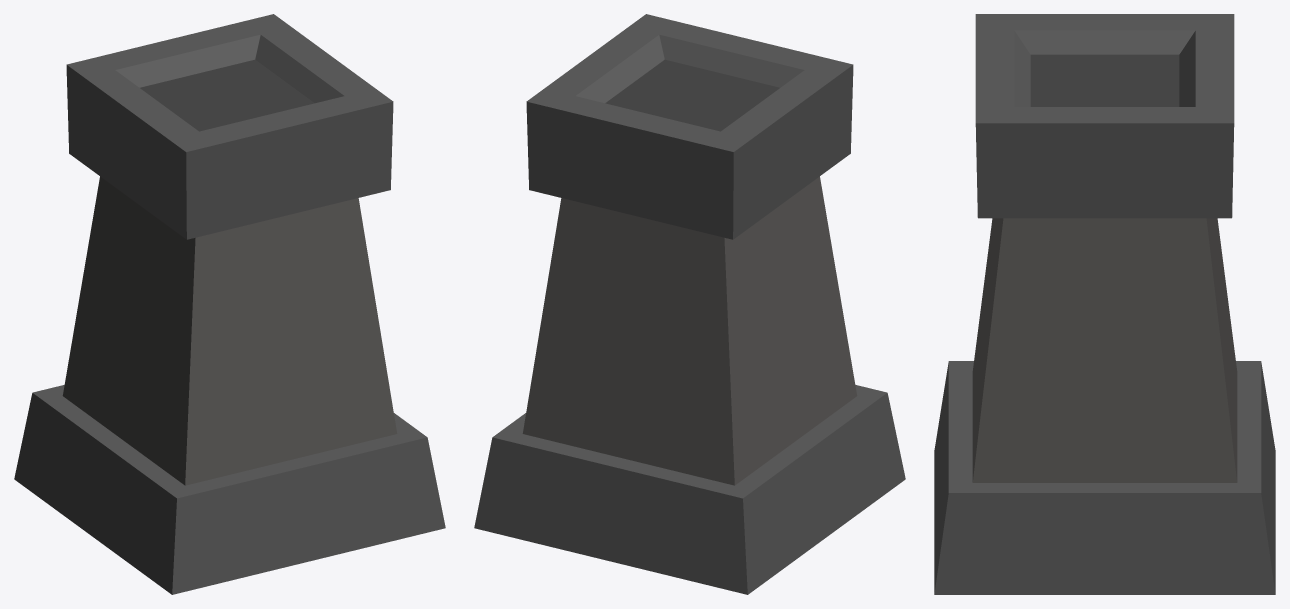
Rendered from Chimney_3_A_2.fbx.
3 views of the same model, side by side, from view 1: azimuth 30°, elevation 25°; view 2: azimuth 150°, elevation 25°; view 3: azimuth 270°, elevation 25° (orthographic). The views are drawn at different scales.
Visible parts, largest first — view 1: Chimney_3_A_2; view 2: Chimney_3_A_2; view 3: Chimney_3_A_2.
Boxes of the visible parts, <box> form: Chimney_3_A_2: <box>14,14,445,594</box>; Chimney_3_A_2: <box>474,14,905,594</box>; Chimney_3_A_2: <box>934,14,1275,594</box>.
Size of the model in its own units: 55.47 by 81.48 by 55.47.
